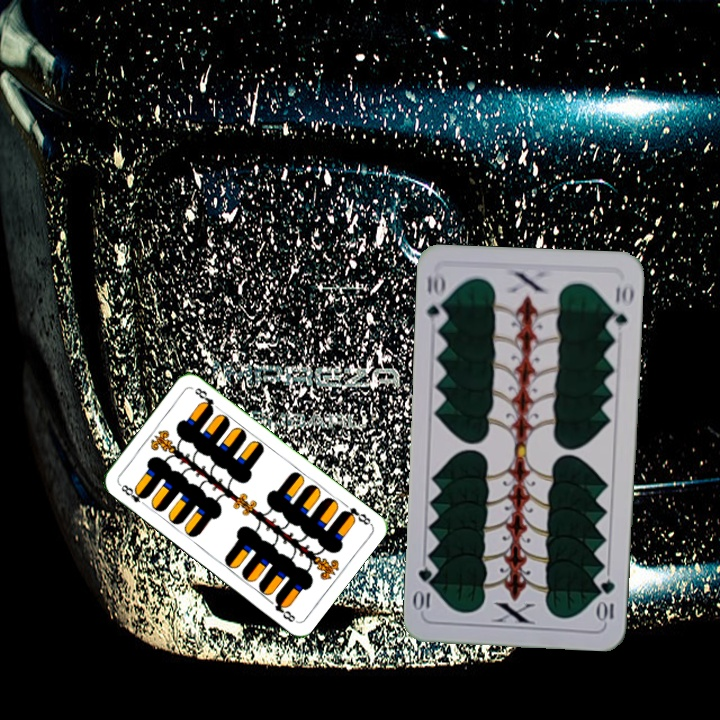E8: (115, 480, 150, 509), (338, 503, 374, 528)
G10: (423, 269, 449, 328), (596, 575, 617, 625)
